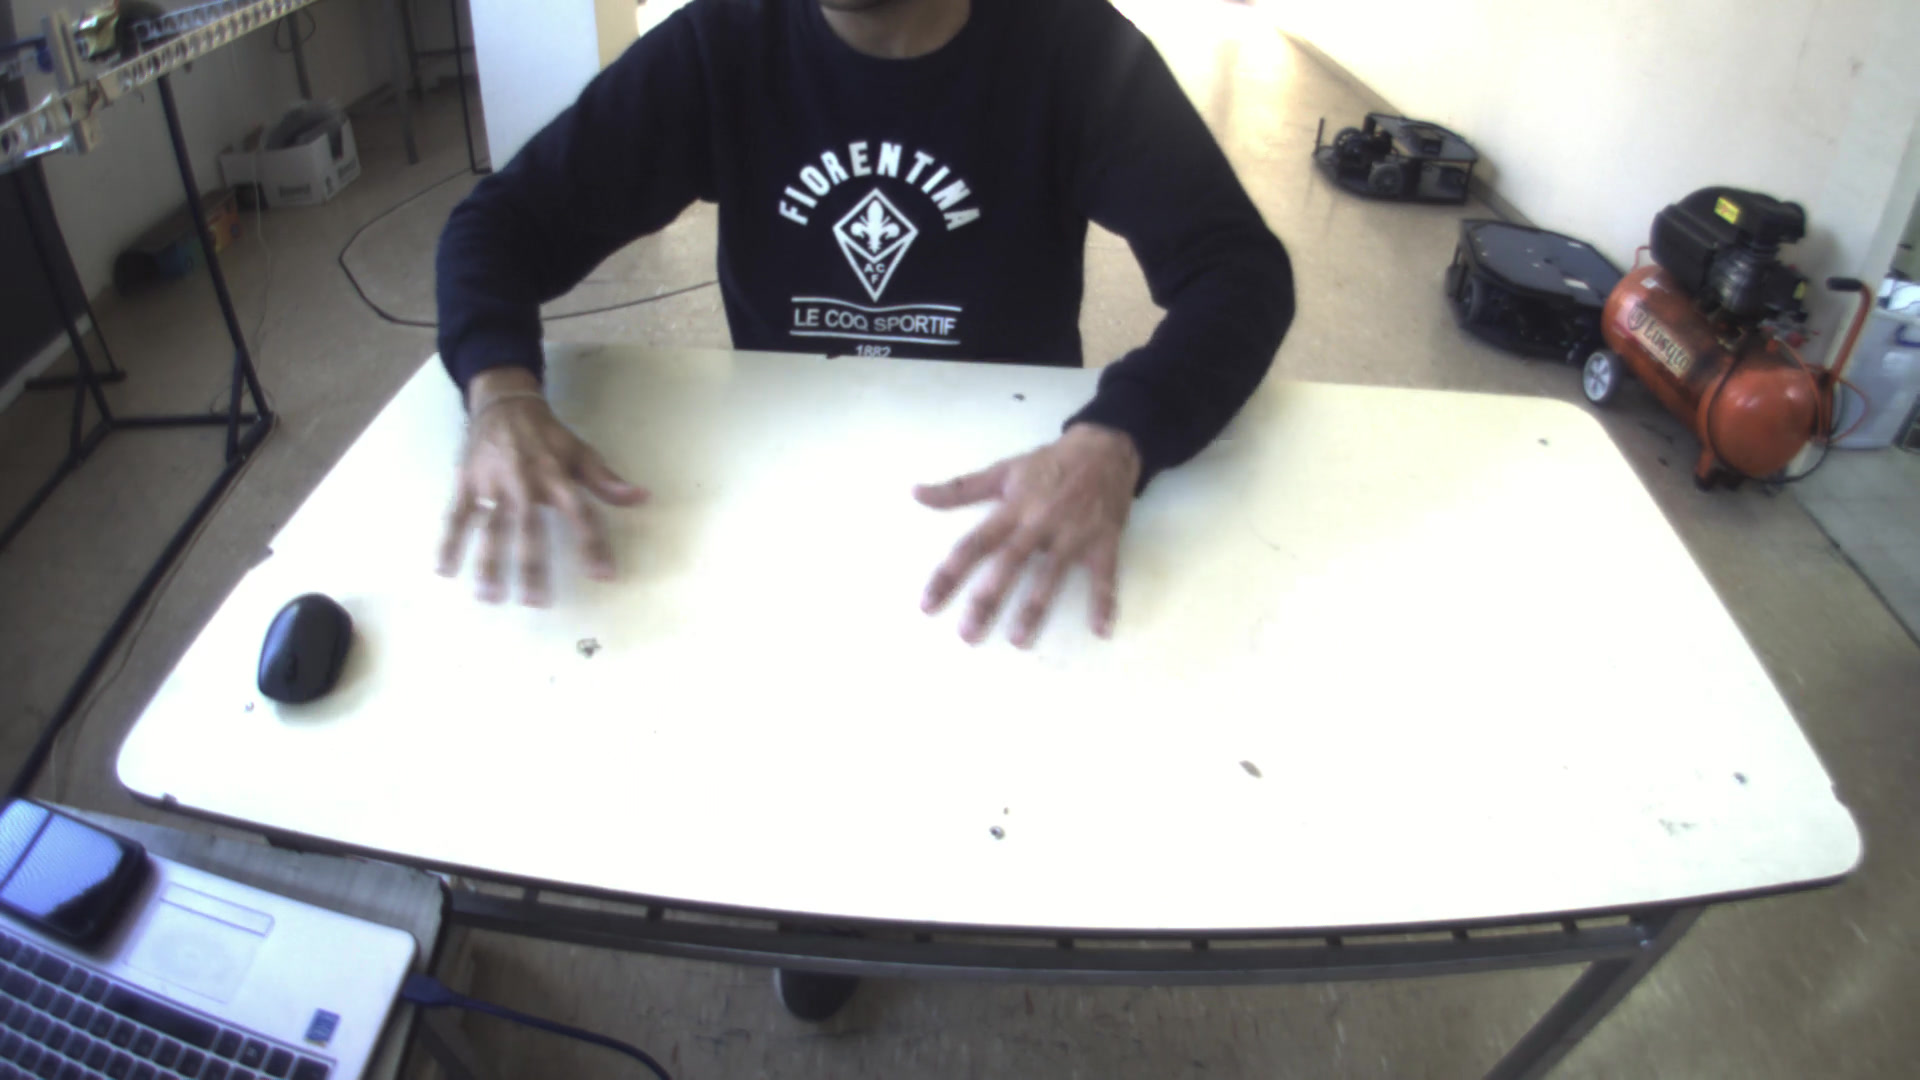hand: (895, 414, 1150, 657), (415, 371, 659, 607)
